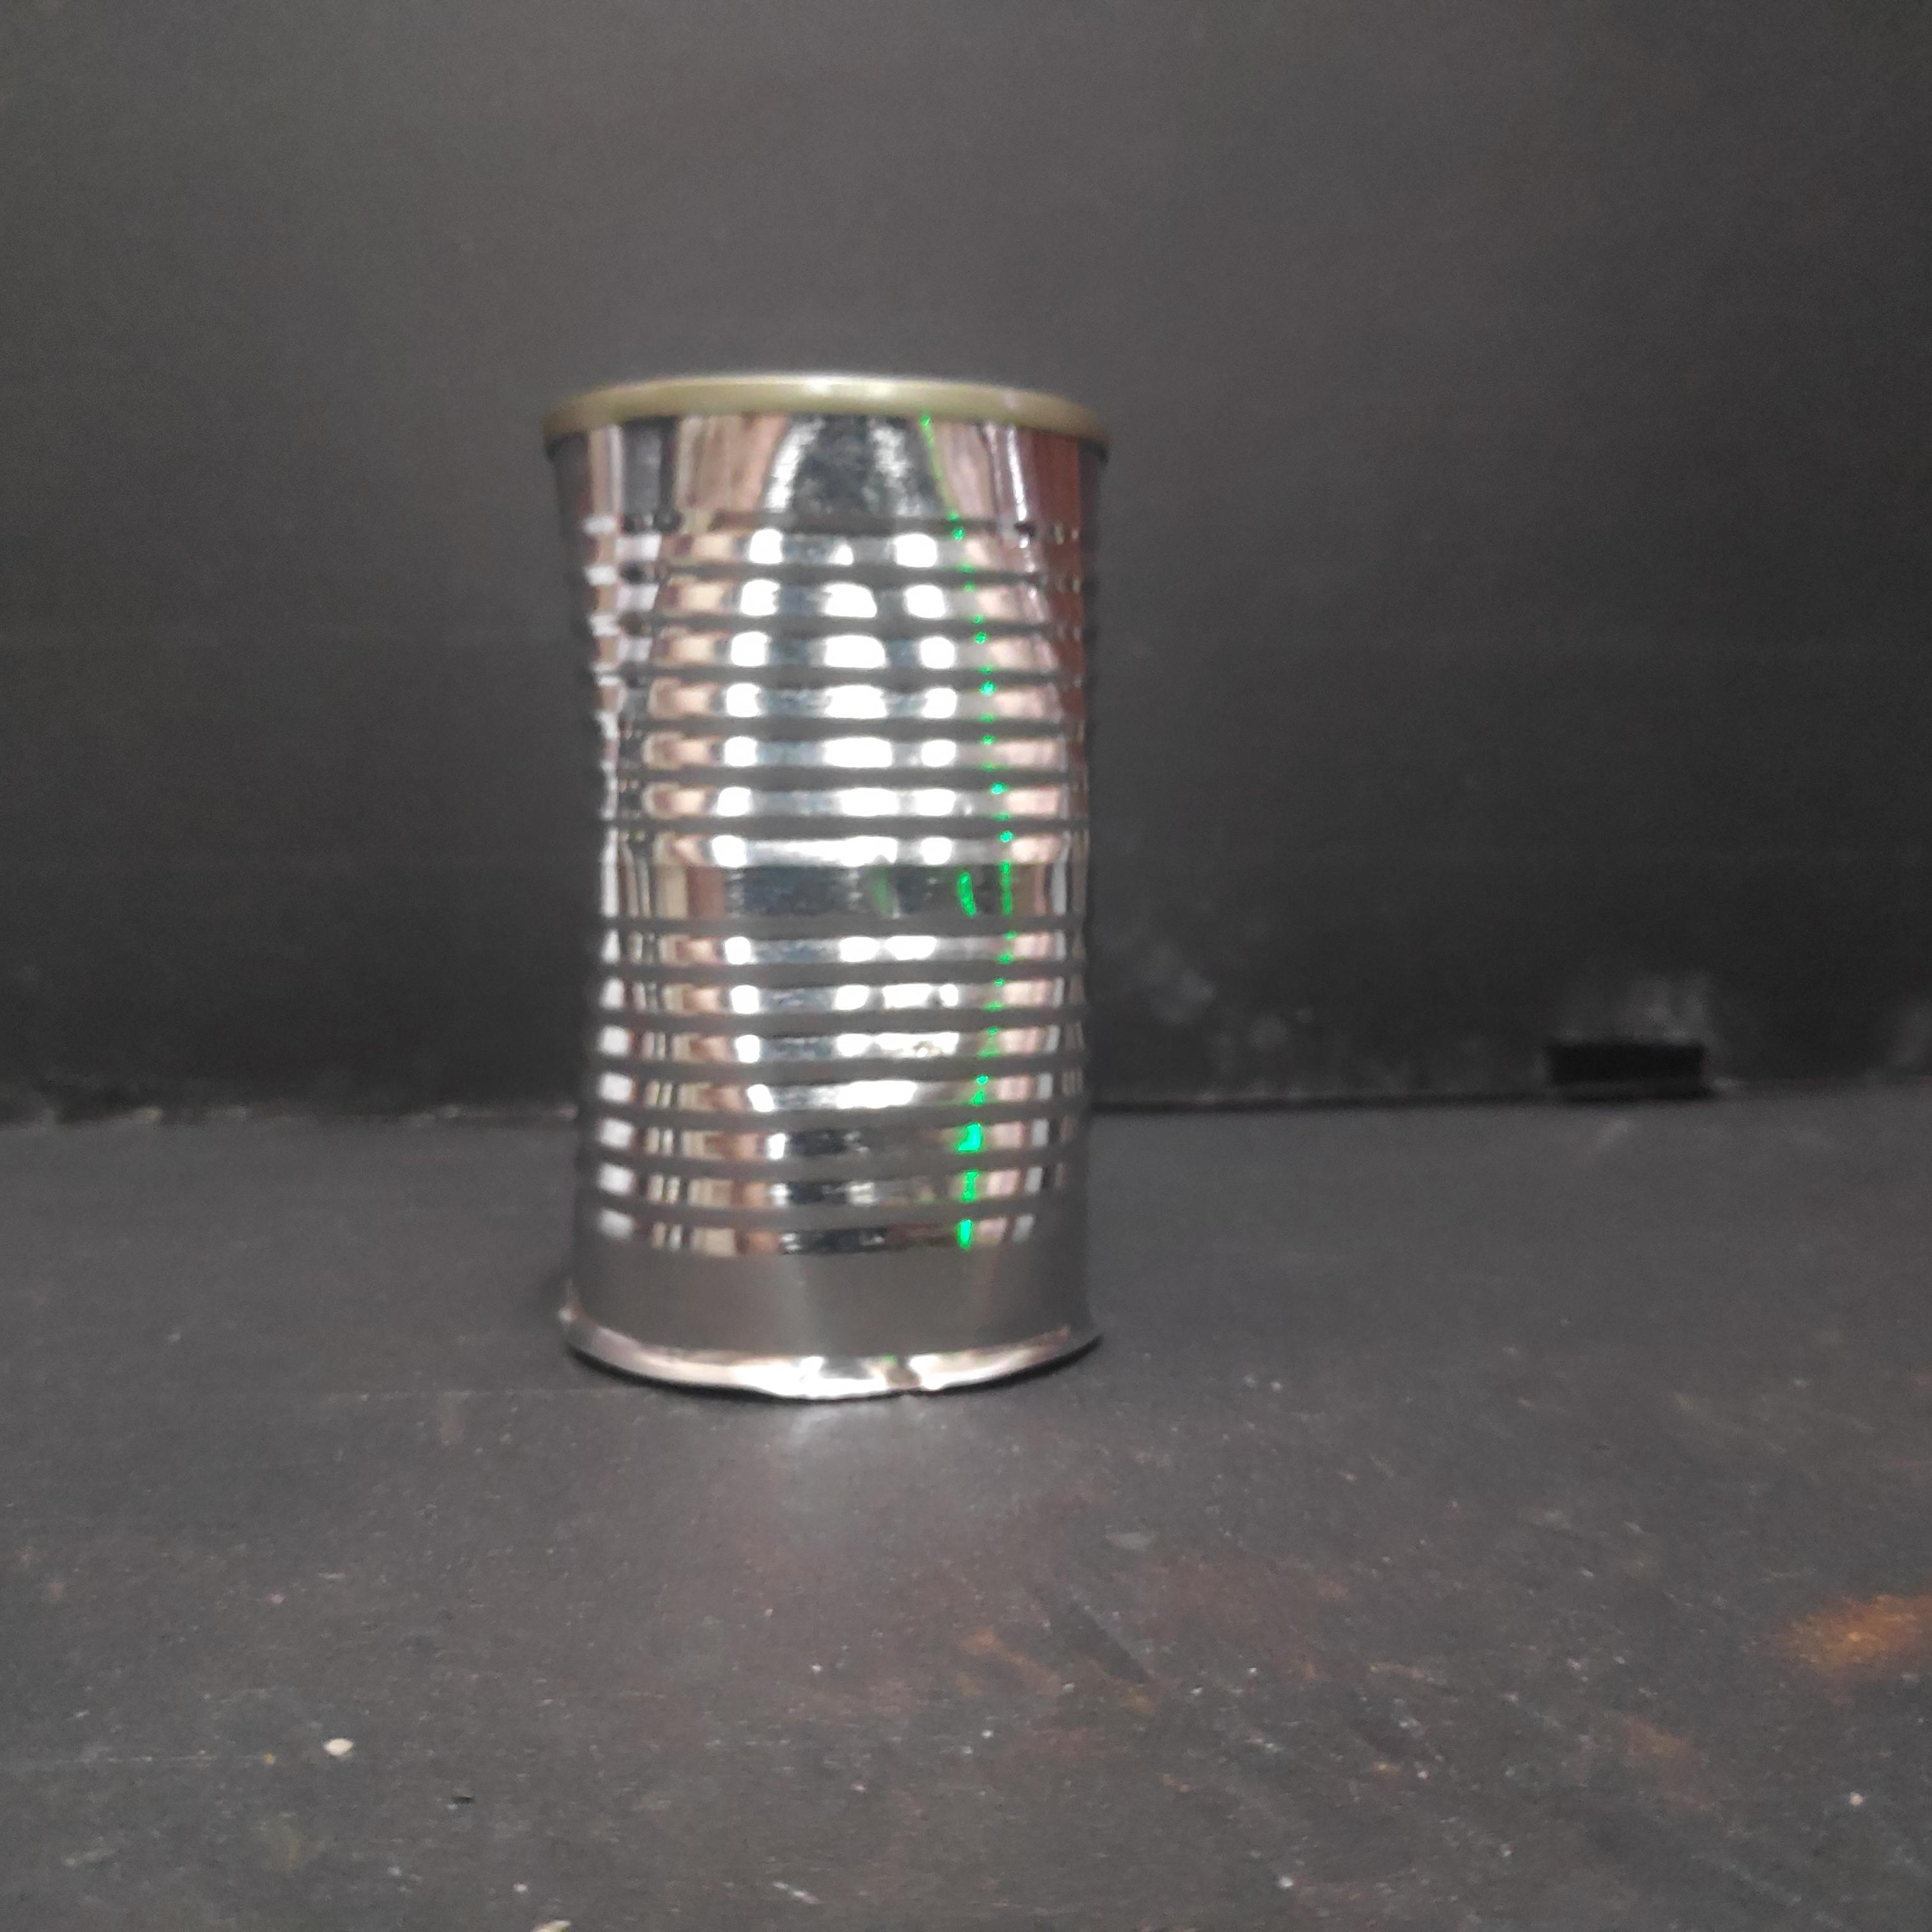Minor Defect: (535, 371, 1117, 1408)
